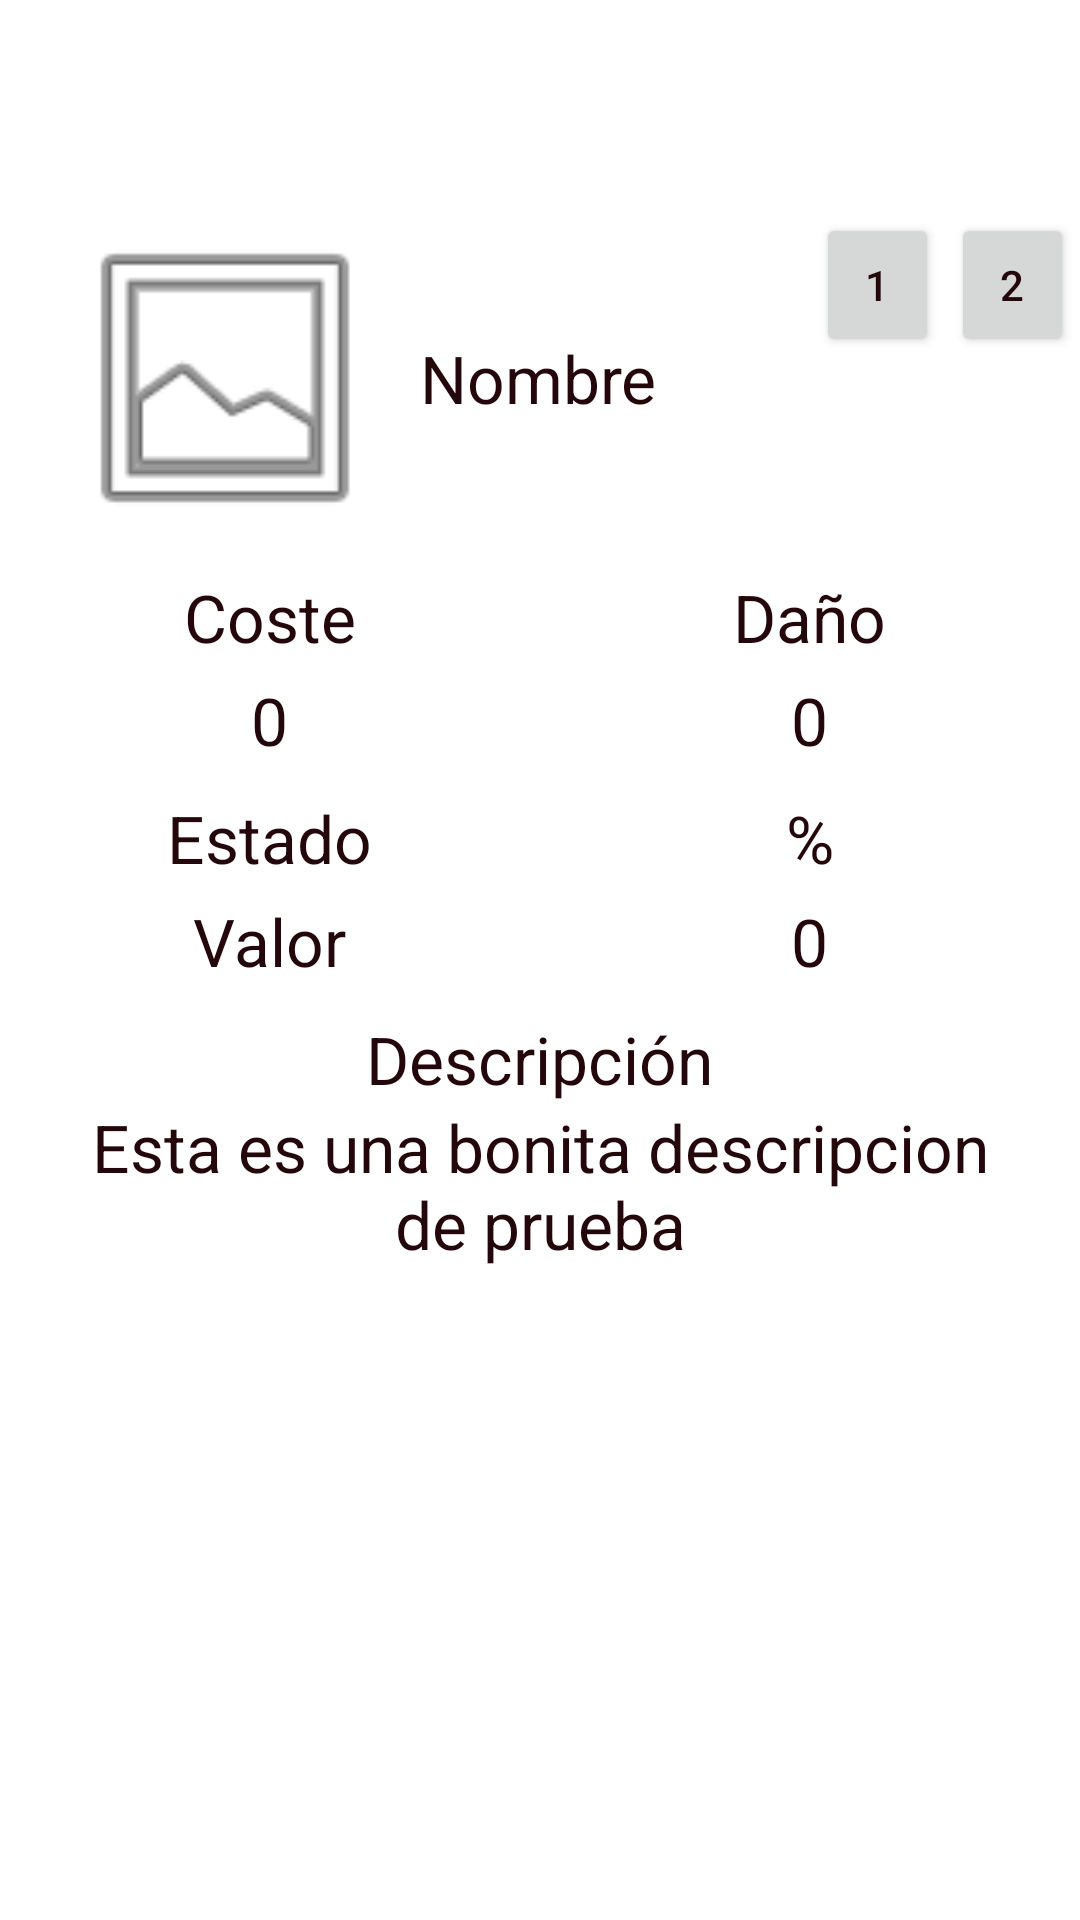

Icons on this 1080px x 1920px Android screen, each with its box as Rect(x1, y1, x2, y2):
Descripción del contenido de la imagen: Rect(100, 253, 350, 503)
